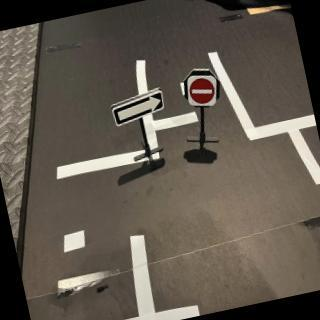sign_noentry: (183, 71, 224, 115)
sign_oneway_right: (109, 85, 168, 128)
